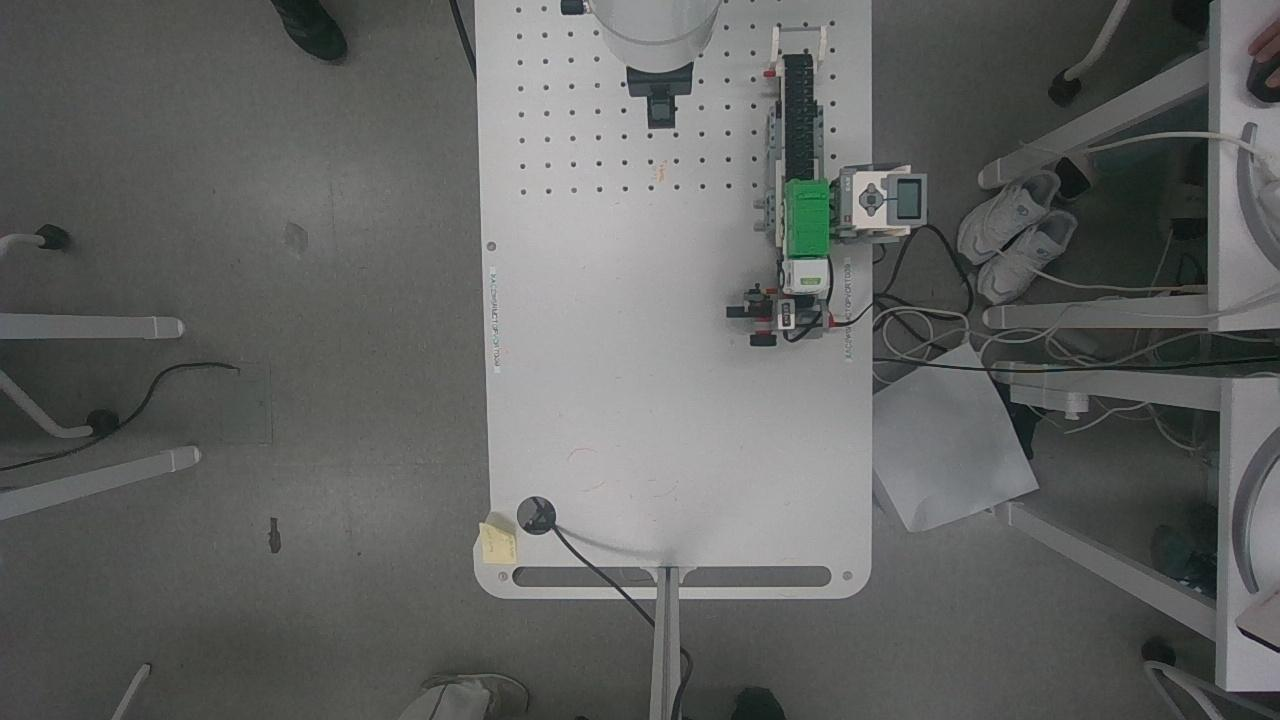truck: (772, 171, 838, 307)
